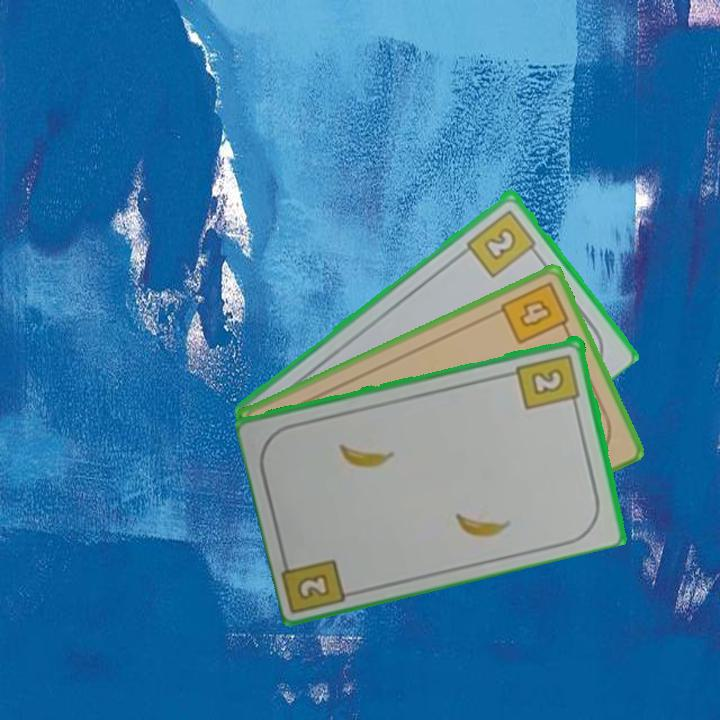2b: (463, 205, 542, 280), (513, 350, 583, 412), (293, 569, 334, 603)
4b: (497, 278, 573, 347)
